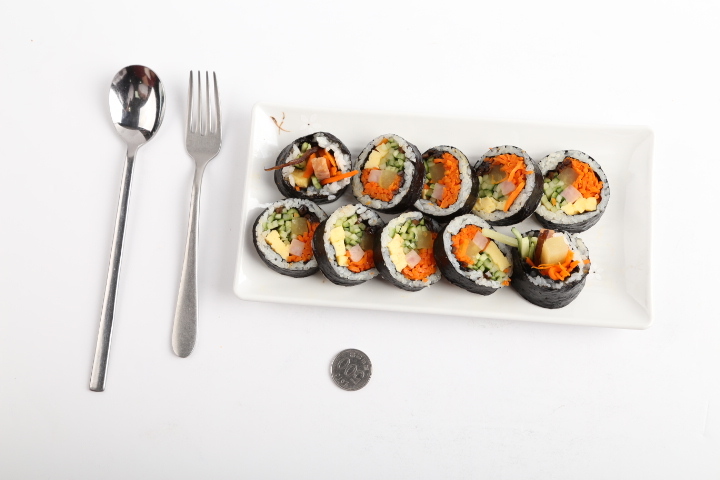dish: (234, 102, 654, 329)
ref_coin: (330, 348, 372, 391)
ref_fork: (186, 70, 221, 167)
ref_spoon: (108, 64, 166, 156)
김밥: (251, 130, 611, 308)
